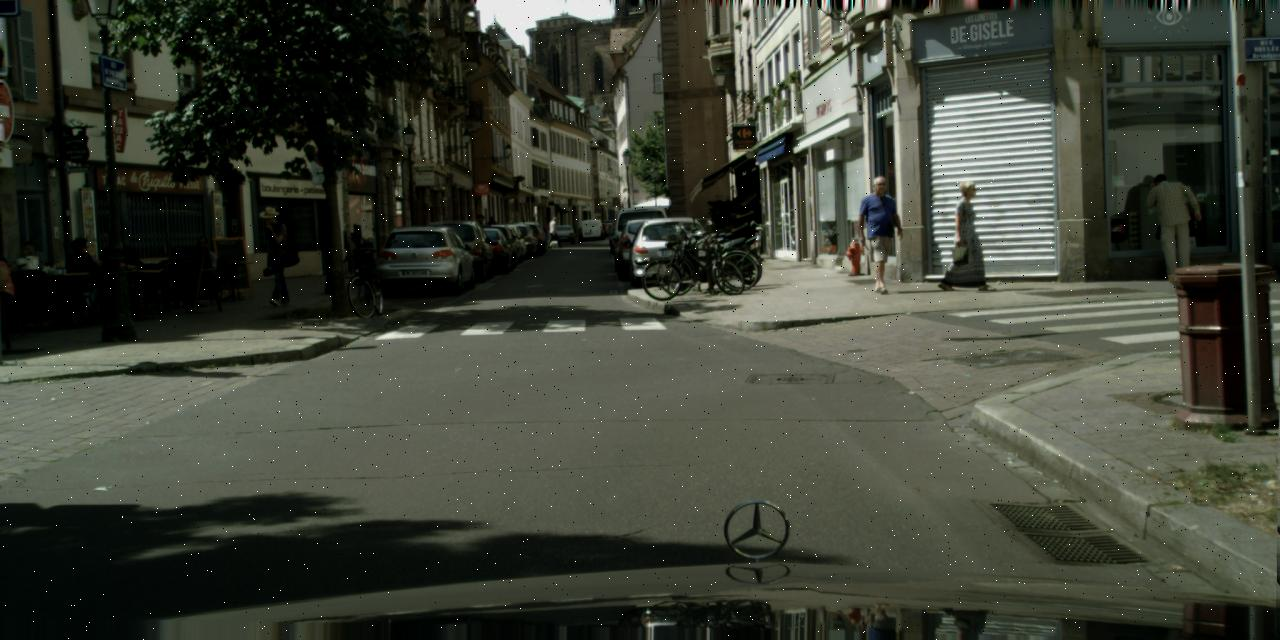ped: (858, 174, 906, 294), (944, 178, 989, 290), (1150, 173, 1192, 277), (256, 207, 295, 304), (470, 214, 489, 262), (485, 216, 499, 250), (548, 216, 560, 248)
